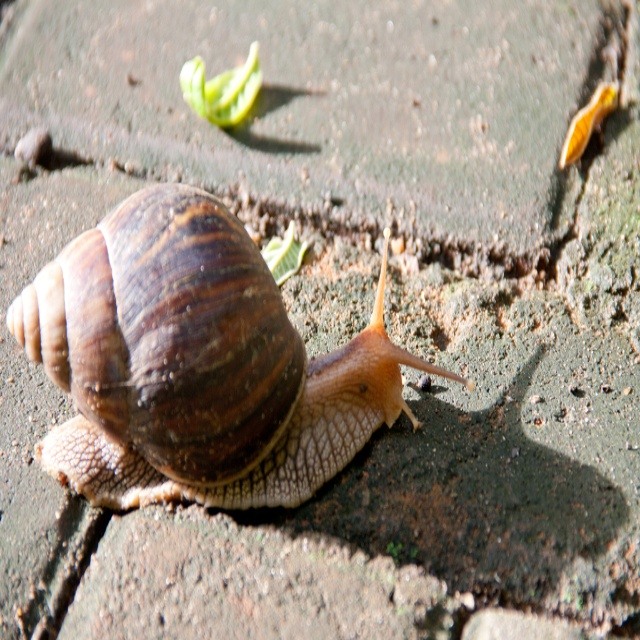Snail: (3, 179, 477, 523)
